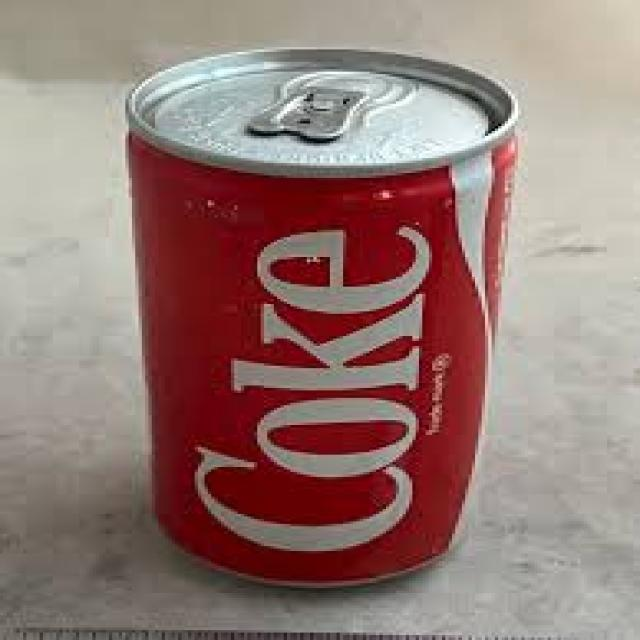can: (110, 30, 532, 619)
